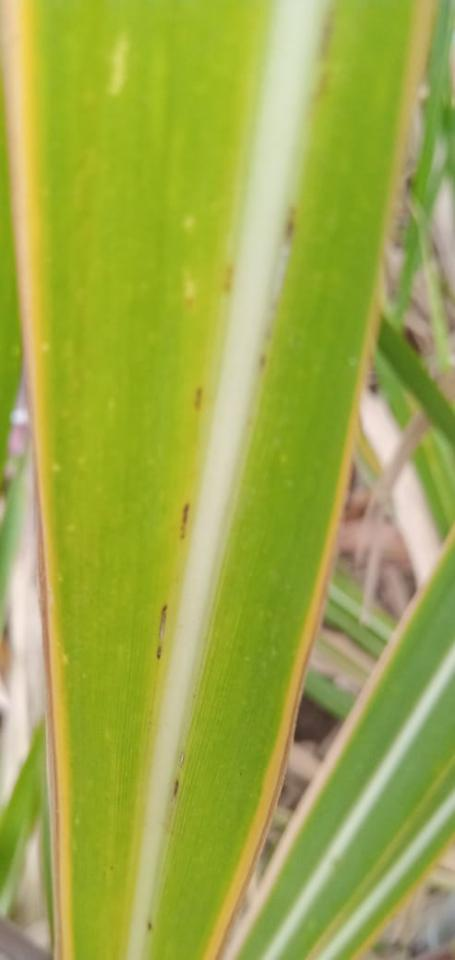Rust: (306, 0, 338, 107), (155, 604, 168, 662), (284, 204, 297, 240), (180, 504, 191, 540), (194, 386, 203, 412), (257, 352, 268, 372), (172, 777, 181, 797), (148, 922, 153, 931)
Yellow: (107, 0, 272, 959), (201, 380, 359, 959), (18, 0, 74, 959)
